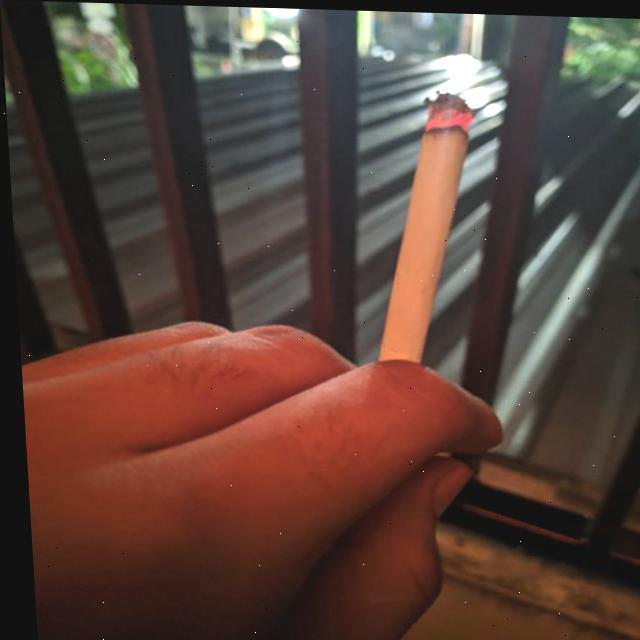cigarette: (363, 86, 481, 361)
